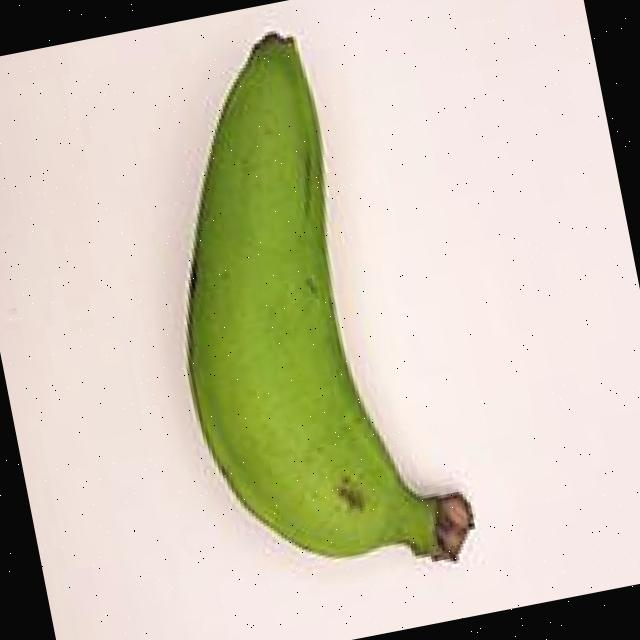Raw: (99, 0, 509, 633)
